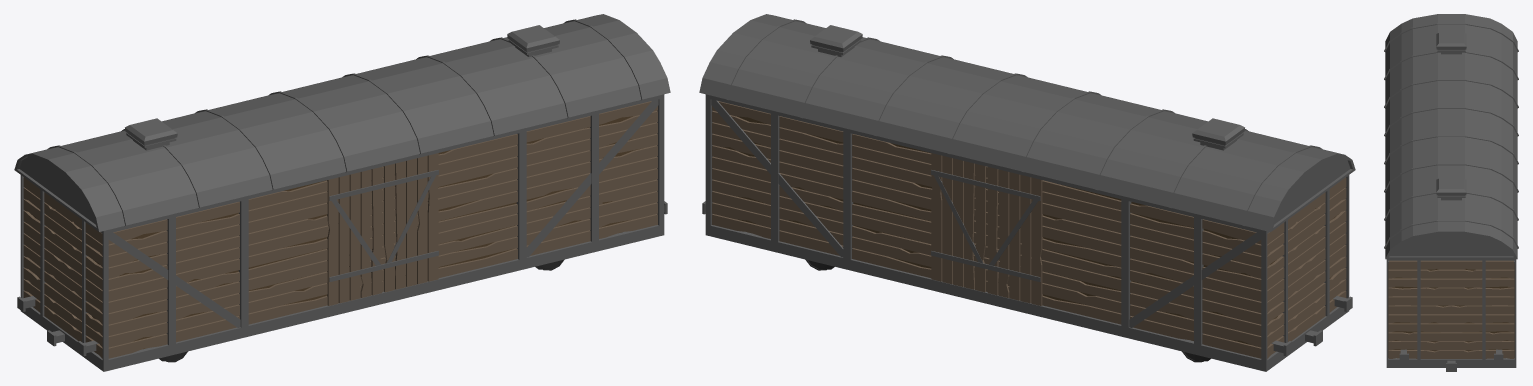
File: locomotive_wagon.glb
3 views of the same model, side by side, from view 1: azimuth 30°, elevation 25°; view 2: azimuth 150°, elevation 25°; view 3: azimuth 270°, elevation 25° (orthographic). The views are drawn at different scales.
Parts seen in each view (by area): view 1: Locomotive_Wagon_Cube.012; view 2: Locomotive_Wagon_Cube.012; view 3: Locomotive_Wagon_Cube.012.
Part boxes in pixels (x1,y1,x2,y2): Locomotive_Wagon_Cube.012: (14, 14, 670, 371); Locomotive_Wagon_Cube.012: (699, 14, 1355, 371); Locomotive_Wagon_Cube.012: (1384, 14, 1518, 371).
Bounding box in the file's own units: 8.06 × 2.95 × 2.07.
